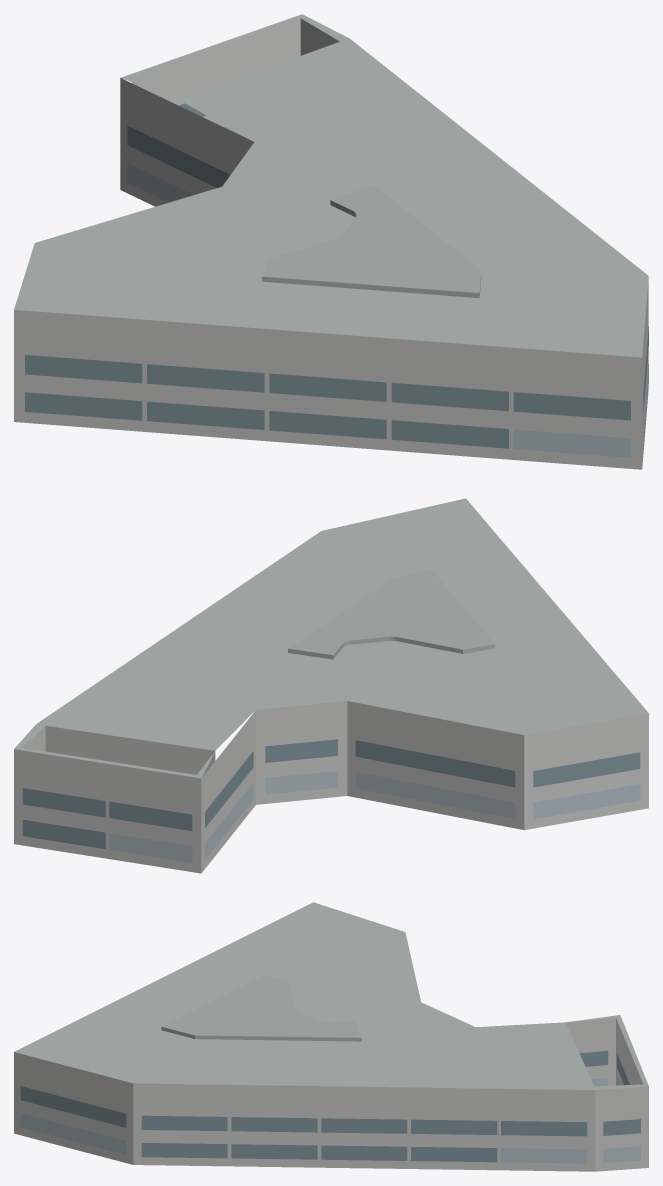
File: named-apt-4850aae3-bdaa-45ec-a573-c06673ee42b3.glb
3 renders of one model, top to bottom at view 1: azimuth 30°, elevation 25°; view 2: azimuth 150°, elevation 25°; view 3: azimuth 270°, elevation 25°, orthographic. The views are drawn at different scales.
Parts seen in each view (by area): view 1: named-apt-4850aae3-bdaa-45ec-a573-c06673ee42b3; view 2: named-apt-4850aae3-bdaa-45ec-a573-c06673ee42b3; view 3: named-apt-4850aae3-bdaa-45ec-a573-c06673ee42b3.
Part boxes in pixels (bbox=[...]): named-apt-4850aae3-bdaa-45ec-a573-c06673ee42b3: bbox=[14, 14, 648, 469]; named-apt-4850aae3-bdaa-45ec-a573-c06673ee42b3: bbox=[14, 498, 648, 873]; named-apt-4850aae3-bdaa-45ec-a573-c06673ee42b3: bbox=[14, 902, 648, 1171].
Size of the model in its own units: 45.22 by 9.56 by 64.55.
